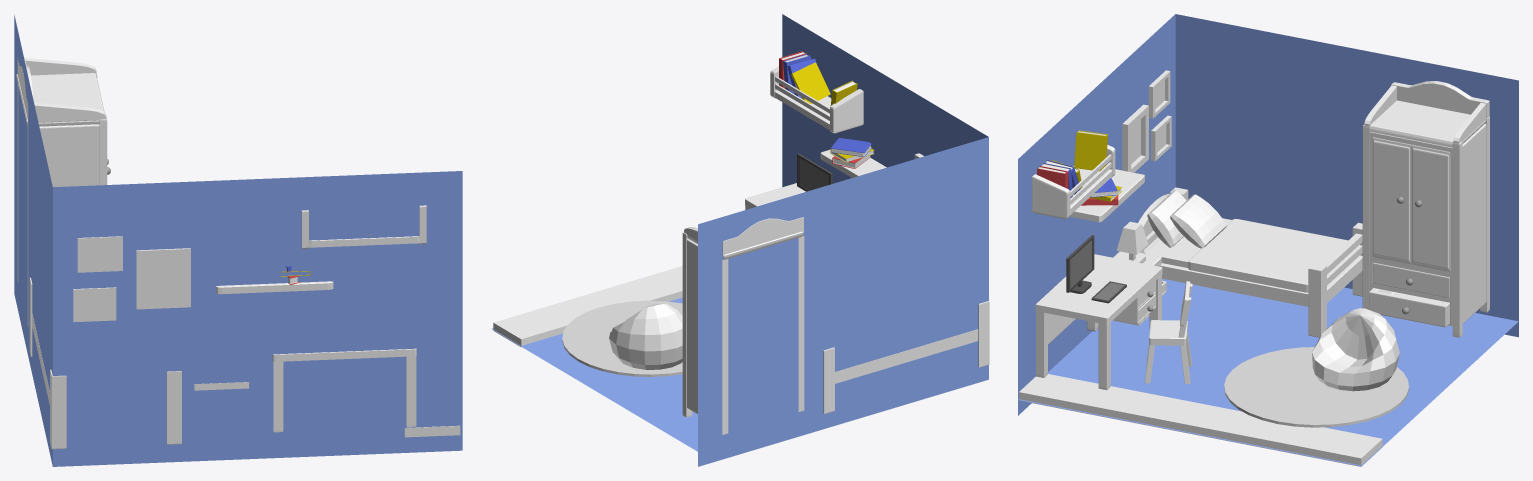
The picture shows the model from 3 angles, left to right: view 1: azimuth 30°, elevation 25°; view 2: azimuth 150°, elevation 25°; view 3: azimuth 270°, elevation 25°; orthographic projection. The views are drawn at different scales.
Visible parts, largest first — view 1: Wall, Wardrobe 1, Picture 1.001, Bed 1, Table 1, Picture 2.001, Wall bookshelf.001, Picture 3.001, Wall shelf.001, Wood floor 1; view 2: Wall, Wardrobe 1, Floor, Wood floor 1, Carpet 1, Seat 1, Bed 1, Wall bookshelf.001, Book stack 2.001, Book stack 1.001, PC 1, Table 1 (+1 smaller); view 3: Wall, Wardrobe 1, Floor, Bed 1, Wood floor 1, Carpet 1, Table 1, Seat 1, Wall bookshelf.001, Chair 1, Picture 1.001, Wall shelf.001 (+7 smaller).
Boxes of the visible parts, x1,y1,x2,y2 form: Wall: (14,15,462,466); Wardrobe 1: (16,57,110,327); Picture 1.001: (136,248,190,309); Bed 1: (29,277,181,449); Table 1: (272,348,416,432); Picture 2.001: (77,236,122,272); Wall bookshelf.001: (301,205,426,248); Picture 3.001: (73,287,116,322); Wall shelf.001: (216,281,333,294); Wood floor 1: (404,425,460,437); Wall: (698,14,988,466); Wardrobe 1: (682,217,804,434); Floor: (491,297,697,451); Wood floor 1: (493,266,682,347); Carpet 1: (562,300,682,376); Seat 1: (609,303,682,369); Bed 1: (823,301,989,414); Wall bookshelf.001: (770,66,863,133); Book stack 2.001: (779,51,830,103); Book stack 1.001: (830,138,874,168); PC 1: (797,153,832,191); Table 1: (745,183,805,209); Wall: (1018,14,1518,415); Wardrobe 1: (1362,81,1489,337); Floor: (1018,278,1518,466); Bed 1: (1138,187,1362,337); Wood floor 1: (1019,374,1382,466); Carpet 1: (1224,347,1408,427); Table 1: (1035,254,1162,390); Seat 1: (1312,308,1399,391); Wall bookshelf.001: (1032,145,1115,219); Chair 1: (1145,281,1192,384); Picture 1.001: (1122,104,1148,172); Wall shelf.001: (1069,169,1144,222).
Size of the model in its own units: 10.63 by 6 by 10.61.
